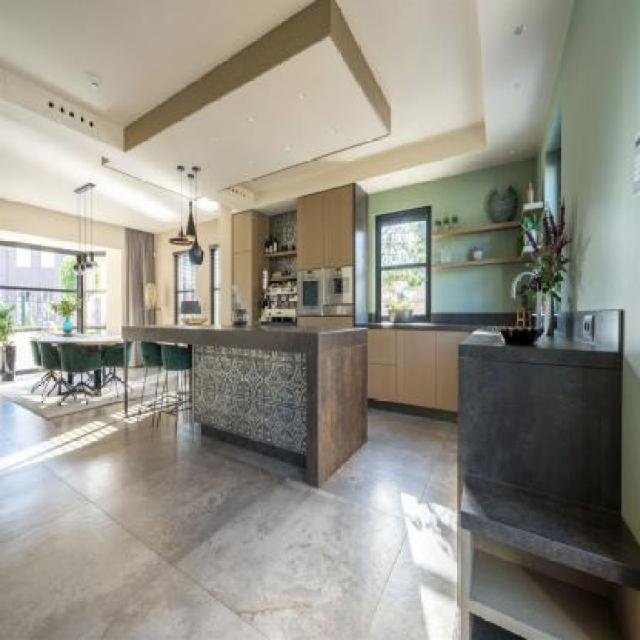floor: (0, 374, 460, 640)
